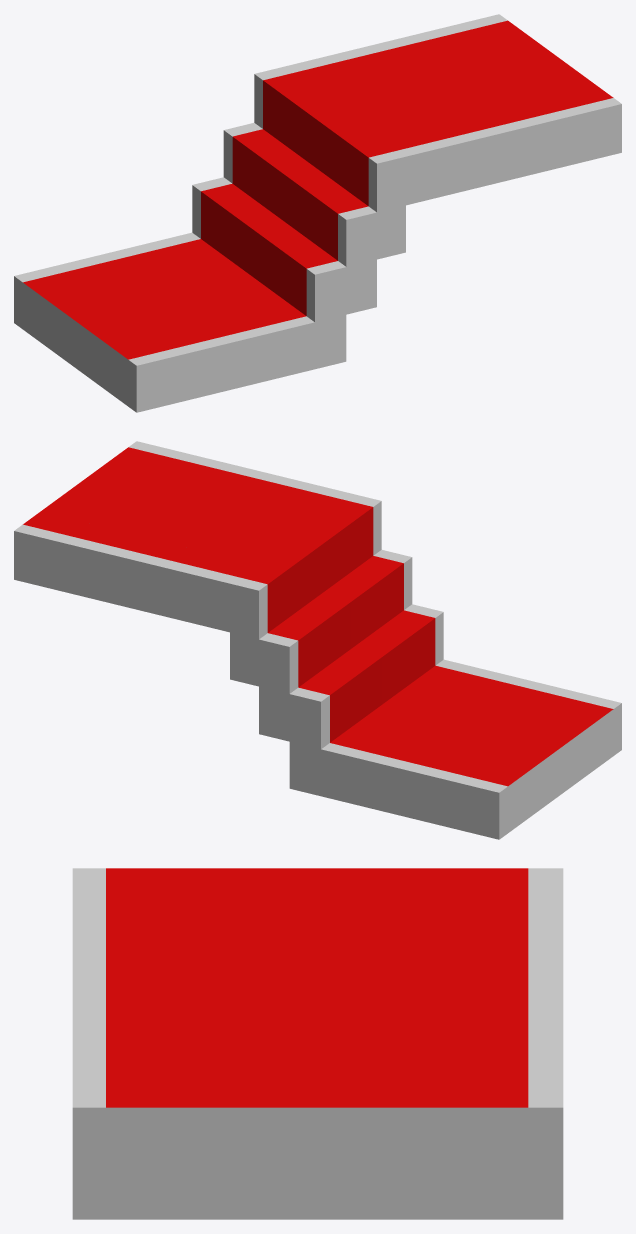
Rendered from merdiven_platform.fbx.
3 renders of one model, top to bottom at view 1: azimuth 30°, elevation 25°; view 2: azimuth 150°, elevation 25°; view 3: azimuth 270°, elevation 25°, orthographic. The views are drawn at different scales.
Visible parts, largest first — view 1: bevelsiz_merdiven_platform; view 2: bevelsiz_merdiven_platform; view 3: bevelsiz_merdiven_platform.
Boxes of the visible parts, x1,y1,x2,y2 form: bevelsiz_merdiven_platform: (14,14,621,412); bevelsiz_merdiven_platform: (14,441,621,839); bevelsiz_merdiven_platform: (72,868,563,1219).
Bounding box in the file's own units: 10.58 × 3.97 × 4.63.
